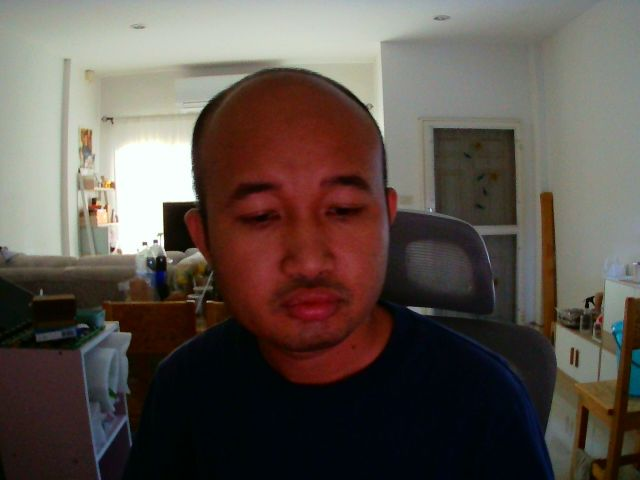face: (185, 68, 396, 355)
